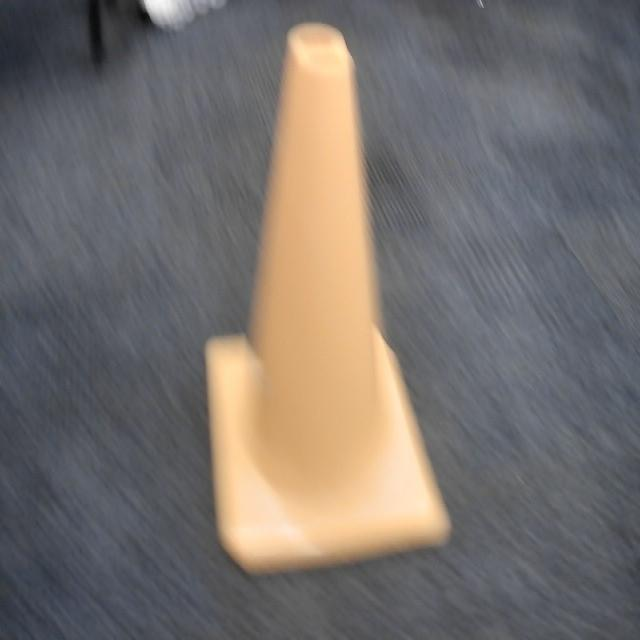cone: (200, 19, 450, 580)
